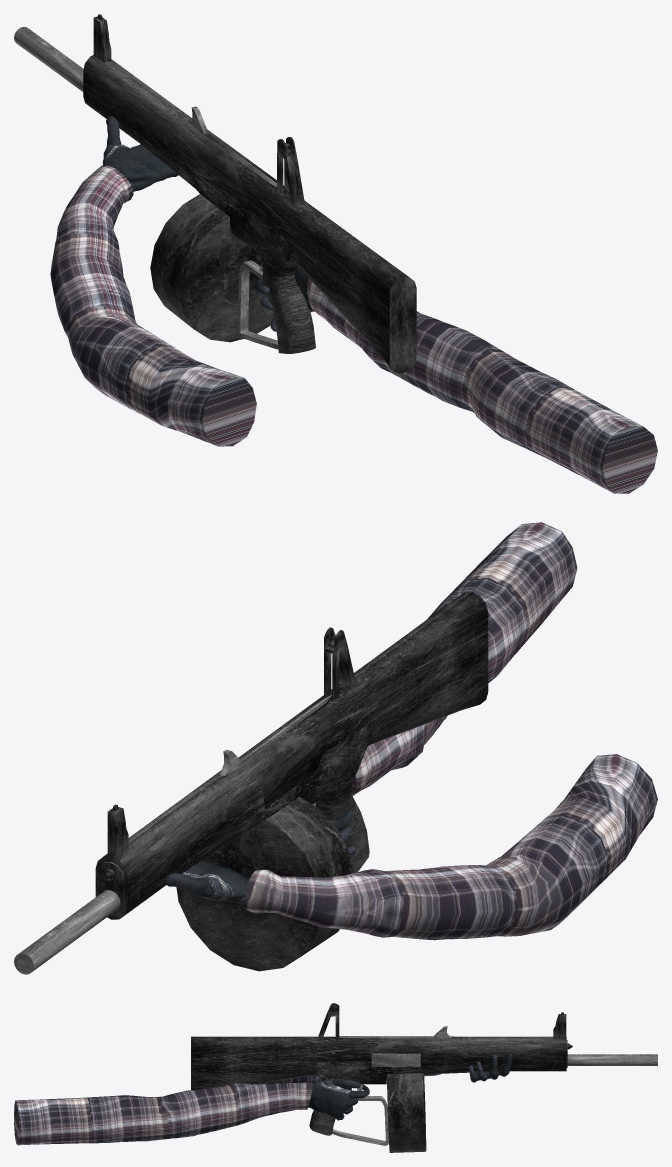
The model's file is aa12_view.fbx.
3 views of the same model, one above another, from view 1: azimuth 30°, elevation 25°; view 2: azimuth 150°, elevation 25°; view 3: azimuth 270°, elevation 25° (orthographic). The views are drawn at different scales.
Parts seen in each view (by area): view 1: larm, aaa12_upperbody, rarm, aa12_drummagazine, aa12_lowerbody, lhand, aa12_barrel, aa12_wiregrip, aa12_rearsight, aa12_frontsight, aa12_bolt; view 2: larm, aaa12_upperbody, aa12_drummagazine, rarm, aa12_lowerbody, aa12_barrel, aa12_rearsight, lhand, aa12_frontsight, aa12_bolt, lthumb; view 3: aaa12_upperbody, rarm, aa12_drummagazine, aa12_lowerbody, rhand, aa12_barrel, aa12_bolt, aa12_wiregrip, aa12_rearsight, larm, aa12_frontsight.
Boxes of the visible parts, x1,y1,x2,y2 form: larm: (50,165,256,446); aaa12_upperbody: (83,55,416,373); rarm: (307,279,657,493); aa12_drummagazine: (150,194,273,342); aa12_lowerbody: (191,183,315,353); lhand: (102,144,176,191); aa12_barrel: (14,27,83,91); aa12_wiregrip: (237,260,278,349); aa12_rearsight: (277,137,304,203); aa12_frontsight: (93,14,111,62); aa12_bolt: (188,106,284,190); larm: (237,754,657,940); aaa12_upperbody: (95,592,488,919); aa12_drummagazine: (176,796,354,971); rarm: (351,522,577,795); aa12_lowerbody: (252,716,379,872); aa12_barrel: (14,890,120,974); aa12_rearsight: (324,627,355,699); lhand: (181,860,249,899); aa12_frontsight: (107,804,128,857); aa12_bolt: (217,695,331,778); lthumb: (165,872,214,896); aaa12_upperbody: (191,1036,567,1089); rarm: (14,1082,313,1145); aa12_drummagazine: (387,1073,426,1152); aa12_lowerbody: (304,1061,435,1135); rhand: (308,1078,351,1119); aa12_barrel: (567,1054,657,1065); aa12_bolt: (339,1026,452,1067); aa12_wiregrip: (332,1096,388,1145); aa12_rearsight: (318,1003,339,1039); larm: (262,1073,441,1084); aa12_frontsight: (553,1012,566,1038).
Size of the model in its own units: 19.54 by 13.86 by 56.25.
3 materials, 3 textured.
